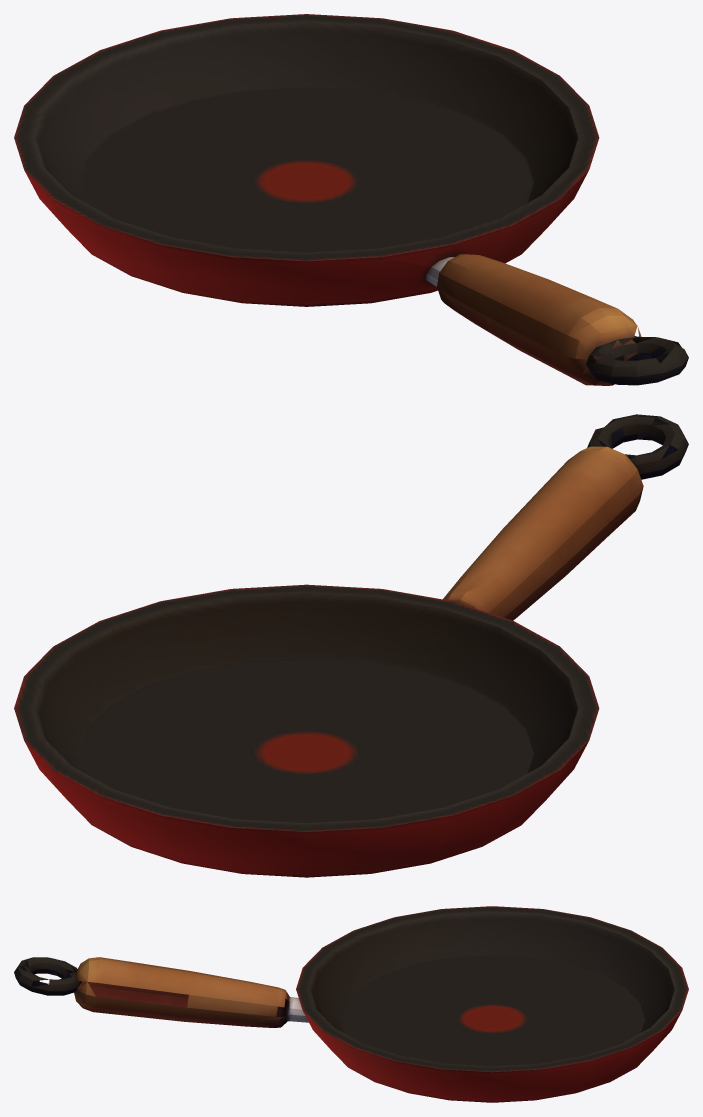
File: pan.glb
3 views of the same model, one above another, from view 1: azimuth 30°, elevation 25°; view 2: azimuth 150°, elevation 25°; view 3: azimuth 270°, elevation 25° (orthographic). The views are drawn at different scales.
Parts seen in each view (by area): view 1: pingdiguo, handle; view 2: pingdiguo, handle; view 3: pingdiguo, handle.
Part boxes in pixels (<box>): pingdiguo: <box>14,14,599,306</box>; handle: <box>425,254,688,385</box>; pingdiguo: <box>14,584,599,877</box>; handle: <box>443,414,688,620</box>; pingdiguo: <box>296,906,688,1102</box>; handle: <box>14,957,308,1027</box>.
Size of the model in its own units: 1.26 by 0.2557 by 2.16.
Materials: 1 (1 with a texture image).
